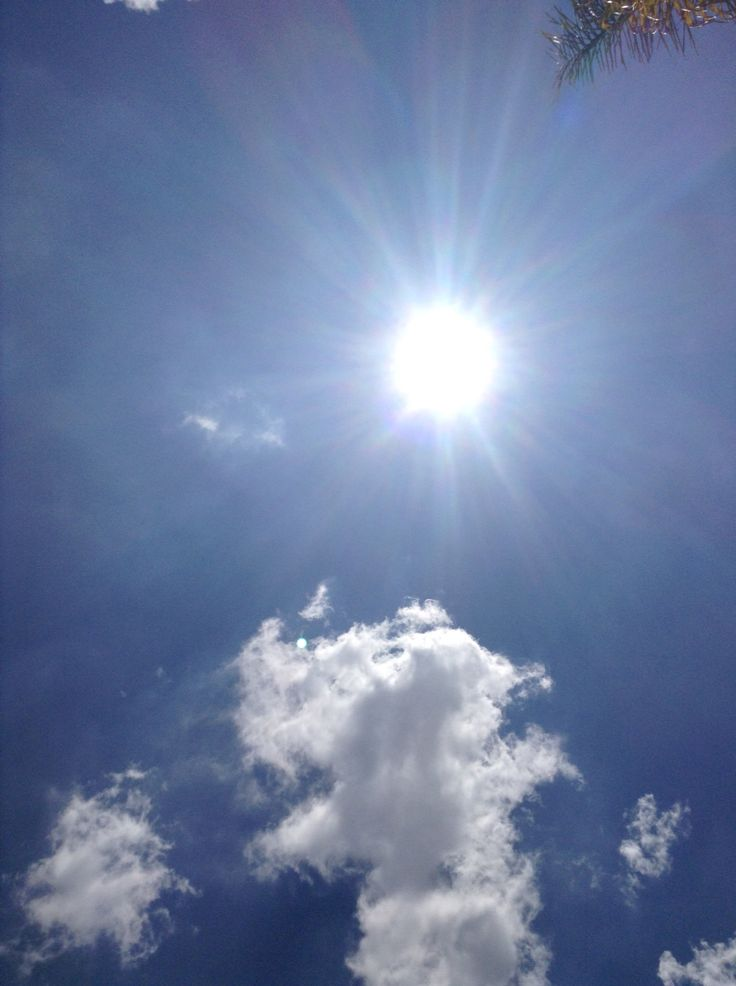sun: (350, 261, 532, 458)
